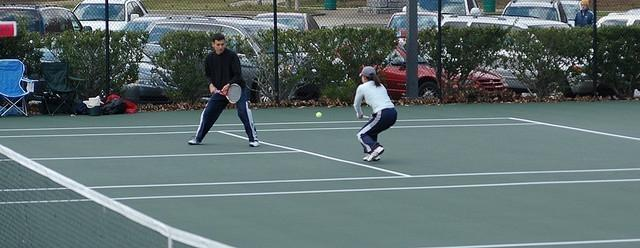car: (144, 14, 348, 102), (441, 15, 595, 97), (121, 17, 178, 104), (382, 41, 441, 104), (0, 5, 93, 35), (70, 0, 148, 31), (432, 63, 506, 91), (500, 0, 572, 26), (492, 55, 540, 90), (386, 12, 444, 38), (258, 13, 324, 31), (595, 12, 640, 26), (560, 0, 582, 25)
